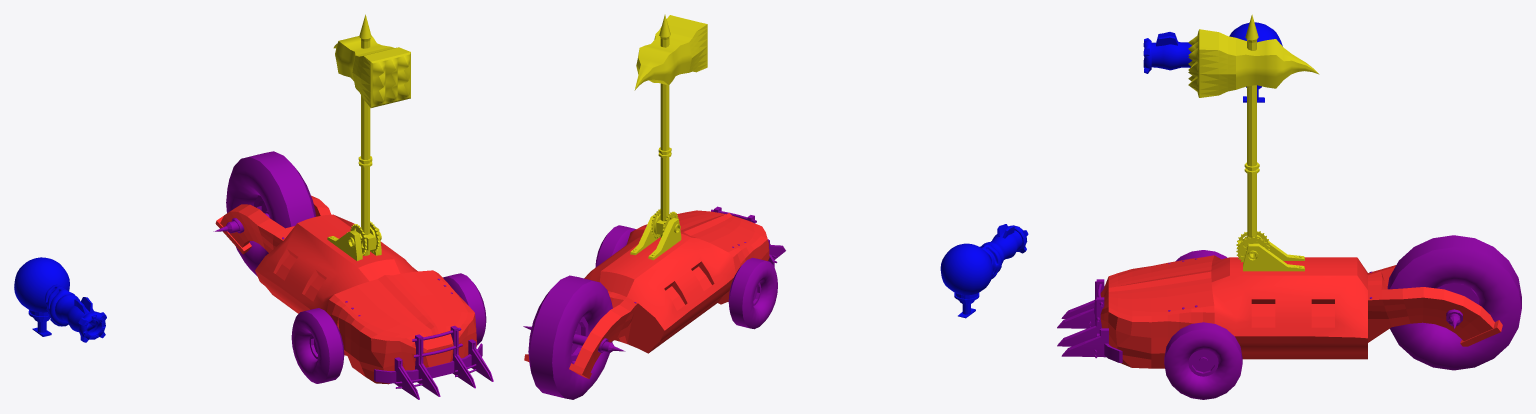
Rendered from FinalCar1_u.FBX.
3 views of the same model, side by side, from view 1: azimuth 30°, elevation 25°; view 2: azimuth 150°, elevation 25°; view 3: azimuth 270°, elevation 25° (orthographic). The views are drawn at different scales.
Parts seen in each view (by area): view 1: Box027, Torus015, Box026, Torus014, Sphere001, Cone011, Torus016, Cylinder002, Box028, Box020, Cylinder001, Box030 (+4 smaller); view 2: Box027, Torus015, Box026, Torus014, Sphere001, Cone011, Box020, Cylinder002, Torus016; view 3: Box027, Torus015, Box026, Torus016, Cone011, Box020, Cylinder002, Box032, Box036, Cylinder156, Box030, Sphere001 (+1 smaller).
Part boxes in pixels (x1,y1,x2,y2): Box027: (215,195,476,384); Torus015: (226,151,315,276); Box026: (333,35,410,107); Torus014: (291,308,344,383); Sphere001: (14,257,69,332); Cone011: (358,14,372,255); Torus016: (443,273,486,345); Cylinder002: (55,294,98,332); Box028: (374,343,482,383); Box020: (327,226,381,260); Cylinder001: (78,311,106,342); Box030: (415,334,440,396); Box027: (524,210,769,378); Torus015: (528,275,612,399); Box026: (634,15,707,90); Torus014: (728,257,777,329); Sphere001: (940,243,992,314); Cone011: (658,14,671,238); Box020: (630,214,681,260); Cylinder002: (982,224,1022,263); Torus016: (595,225,635,267); Box027: (1100,255,1502,368); Torus015: (1387,235,1521,370); Box026: (1188,29,1319,97); Torus016: (1164,322,1242,399); Cone011: (1244,14,1259,253); Box020: (1243,235,1304,271); Cylinder002: (1151,32,1191,70); Box032: (1061,328,1108,357); Box036: (1057,297,1104,346); Cylinder156: (1188,349,1218,376); Box030: (1057,279,1104,328); Sphere001: (1229,22,1282,100).
Size of the model in its own units: 152 by 113 by 136.
